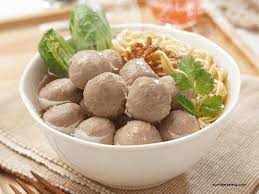Bakso sedang: (126, 75, 172, 122), (83, 72, 127, 119), (69, 51, 113, 87), (157, 110, 204, 141), (35, 78, 83, 108), (113, 120, 163, 147), (75, 117, 114, 148), (40, 101, 80, 130), (121, 58, 158, 82)
